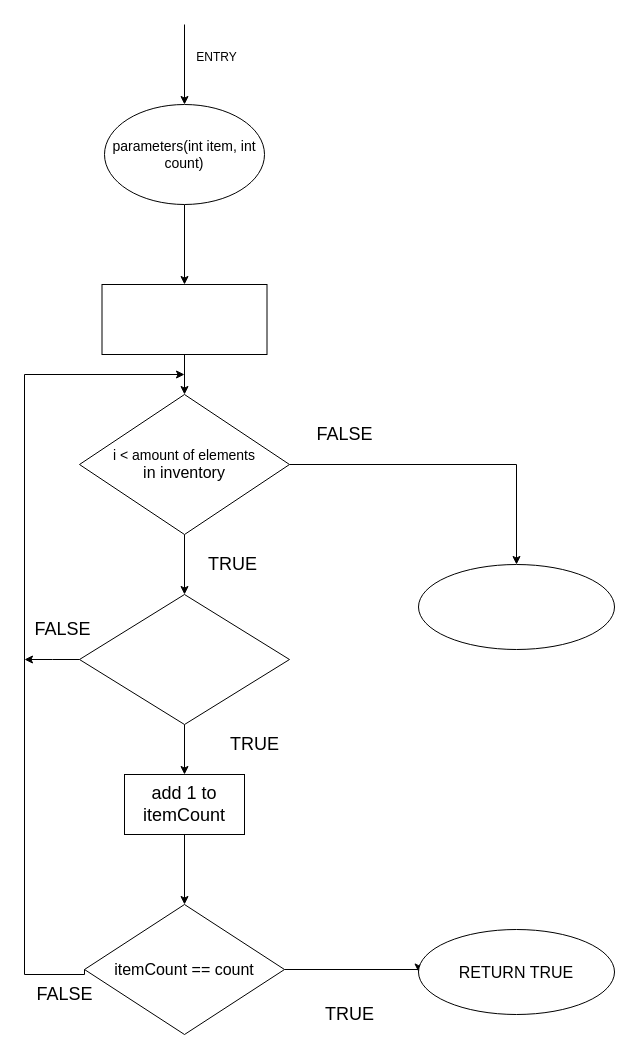
The diagram is 632 pixels wide and 1052 high, and some of its shapes have lost their labels. Each missing label, with the centre of its shape:
i == item: the point at 184,659
itemCount = 0 i = 0: the point at 184,319
RETURN FALSE: the point at 516,607
